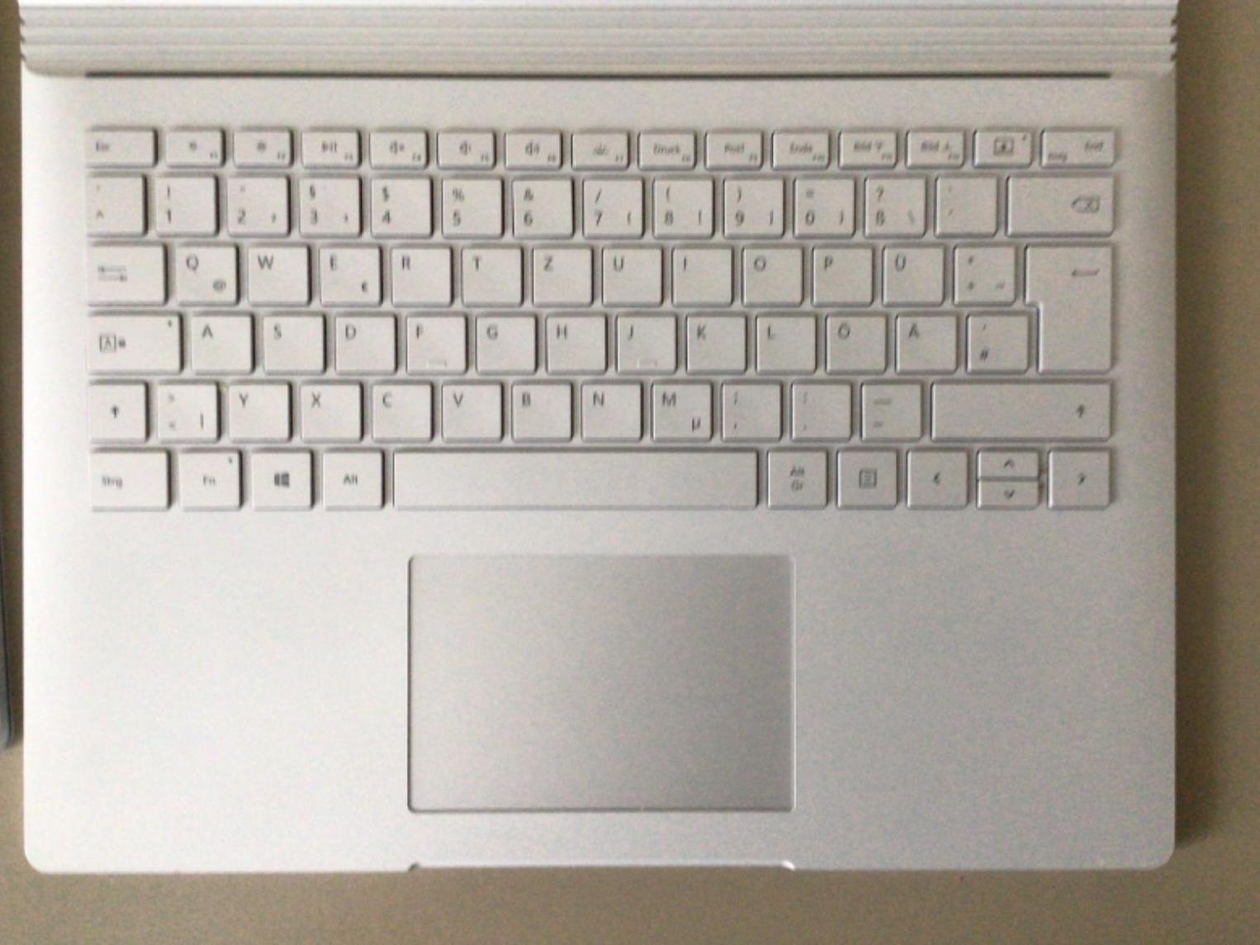0: (788, 171, 852, 235)
1: (147, 170, 214, 233)
2: (220, 171, 287, 233)
3: (291, 170, 357, 233)
4: (365, 172, 429, 233)
5: (437, 172, 500, 233)
6: (506, 173, 570, 233)
7: (576, 172, 640, 235)
8: (647, 172, 711, 235)
9: (717, 171, 782, 235)
a: (184, 307, 249, 370)
accent: (930, 169, 994, 233)
ae: (890, 308, 954, 371)
alt-left: (317, 444, 384, 509)
altgr-right: (762, 444, 828, 508)
b: (507, 376, 573, 439)
c: (366, 376, 432, 438)
caret: (80, 171, 141, 232)
comma: (715, 375, 779, 439)
d: (329, 308, 394, 372)
del: (1004, 169, 1115, 233)
e: (320, 243, 385, 307)
enter: (1021, 240, 1114, 372)
f: (400, 309, 465, 372)
g: (471, 309, 533, 371)
h: (541, 309, 604, 371)
hash: (961, 308, 1026, 371)
i: (667, 240, 730, 302)
j: (611, 308, 674, 371)
k: (680, 308, 744, 370)
keyboard: (68, 104, 1133, 531)
l: (751, 308, 813, 370)
less: (148, 375, 216, 438)
m: (644, 374, 708, 439)
minus: (855, 376, 921, 438)
n: (575, 374, 639, 438)
o: (735, 239, 799, 303)
oe: (820, 309, 883, 371)
p: (807, 240, 871, 303)
plus: (948, 239, 1013, 302)
point: (786, 376, 850, 437)
q: (172, 243, 241, 307)
r: (384, 239, 449, 303)
s: (256, 309, 322, 370)
shift-left: (83, 378, 144, 439)
shift-lock: (81, 309, 178, 372)
shift-right: (927, 375, 1111, 439)
space: (391, 444, 757, 510)
ss: (857, 169, 923, 234)
strg-left: (82, 445, 167, 509)
t: (456, 240, 520, 302)
tab: (81, 238, 167, 310)
u: (595, 240, 659, 303)
ue: (876, 239, 941, 303)
v: (438, 376, 503, 438)
w: (246, 239, 311, 305)
x: (298, 378, 365, 441)
y: (220, 375, 287, 438)
z: (526, 239, 590, 303)
